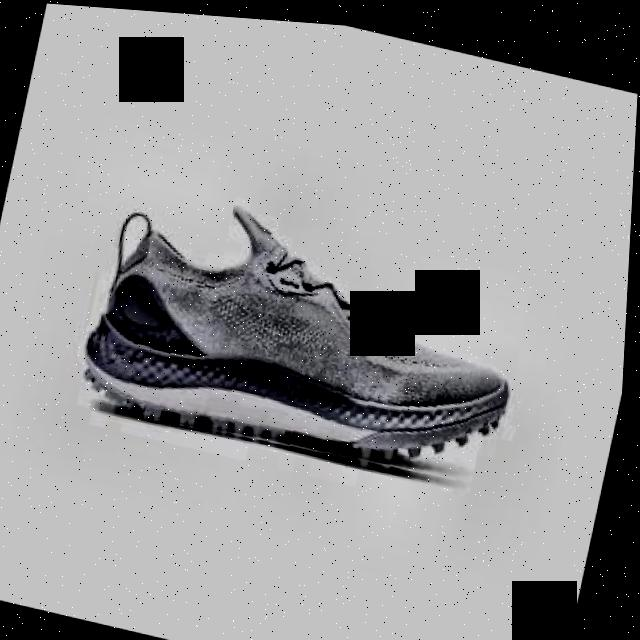shoe: (75, 174, 542, 493)
